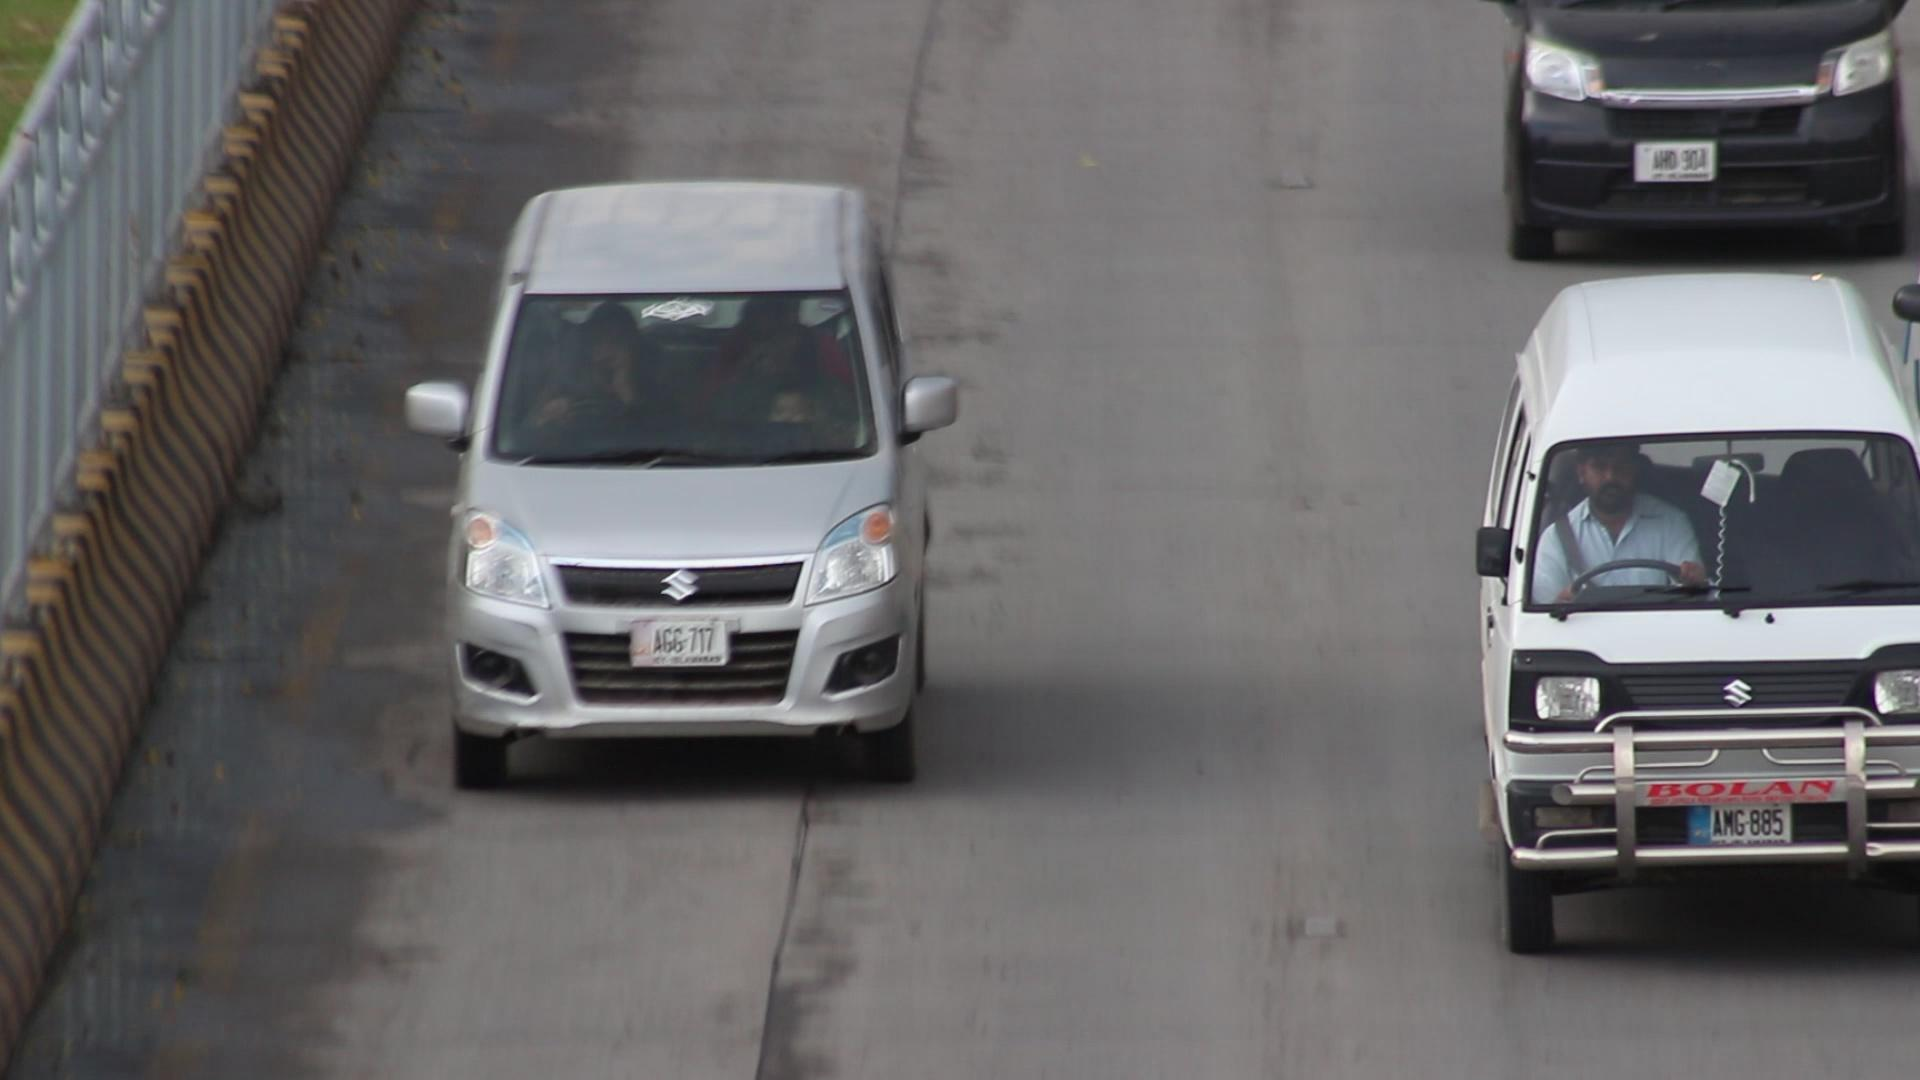windshield: (471, 266, 887, 473)
